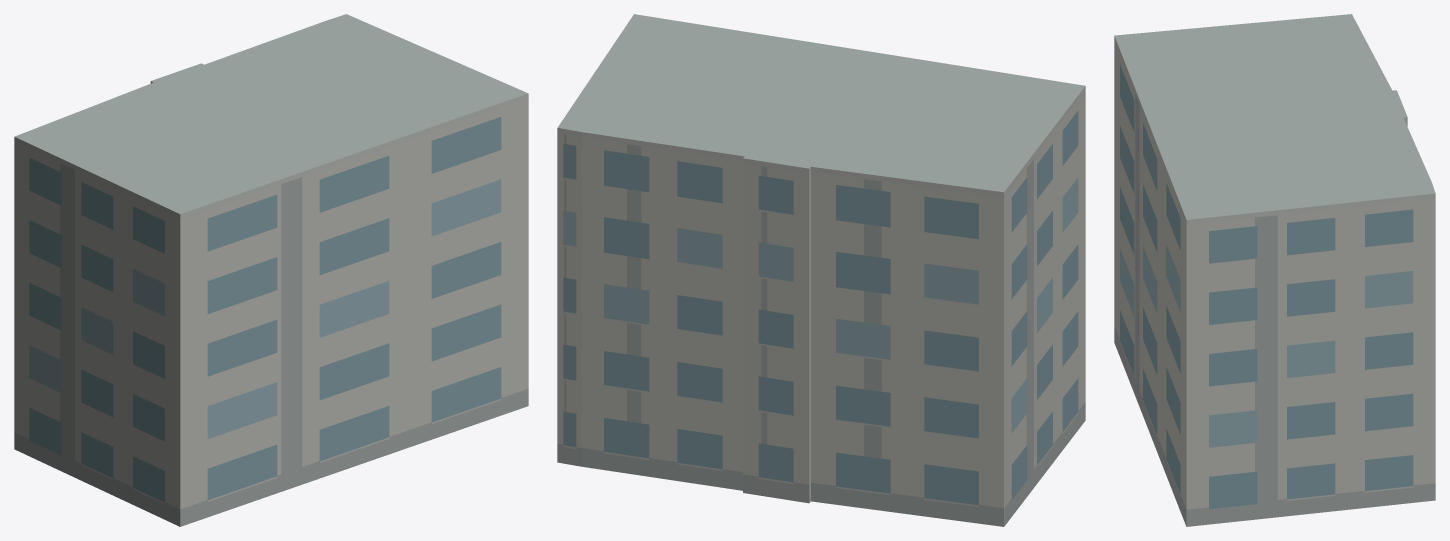
Rendered from survey-upis-32955975.glb.
3 renders of one model, left to right at view 1: azimuth 30°, elevation 25°; view 2: azimuth 150°, elevation 25°; view 3: azimuth 270°, elevation 25°, orthographic. The views are drawn at different scales.
Visible parts, largest first — view 1: survey-upis-32955975.tmp; view 2: survey-upis-32955975.tmp; view 3: survey-upis-32955975.tmp.
Part boxes in pixels (box(x1,y1,x2,y2)): survey-upis-32955975.tmp: box(14, 14, 528, 526); survey-upis-32955975.tmp: box(557, 14, 1085, 526); survey-upis-32955975.tmp: box(1114, 14, 1435, 526).
Bounding box in the file's own units: 21.88 × 15.2 × 14.43.
